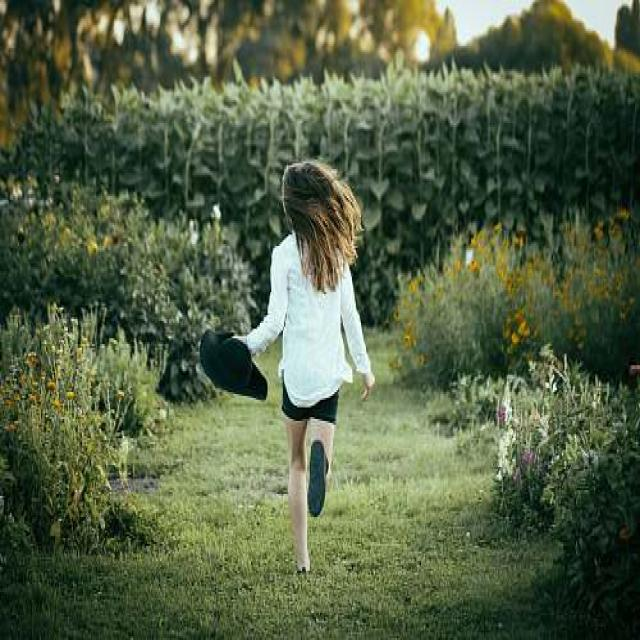running: (231, 159, 382, 571)
